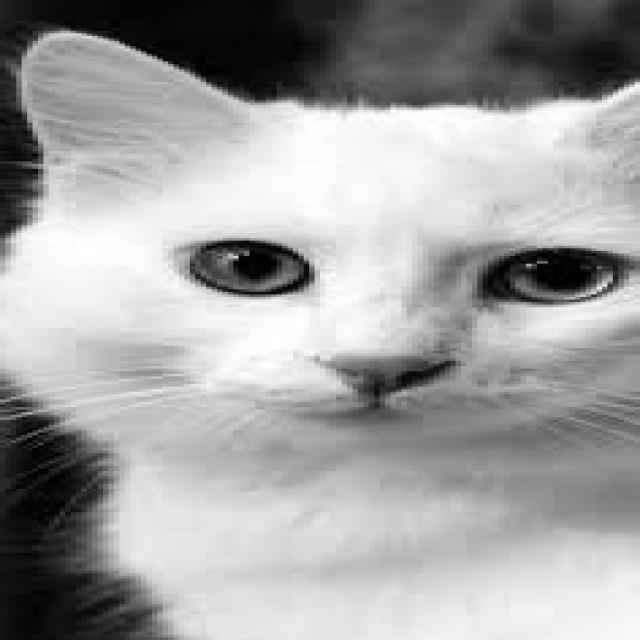van: (0, 3, 640, 512)
